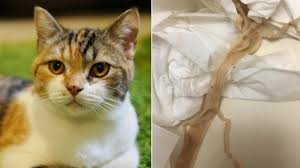cat: (19, 7, 148, 123)
